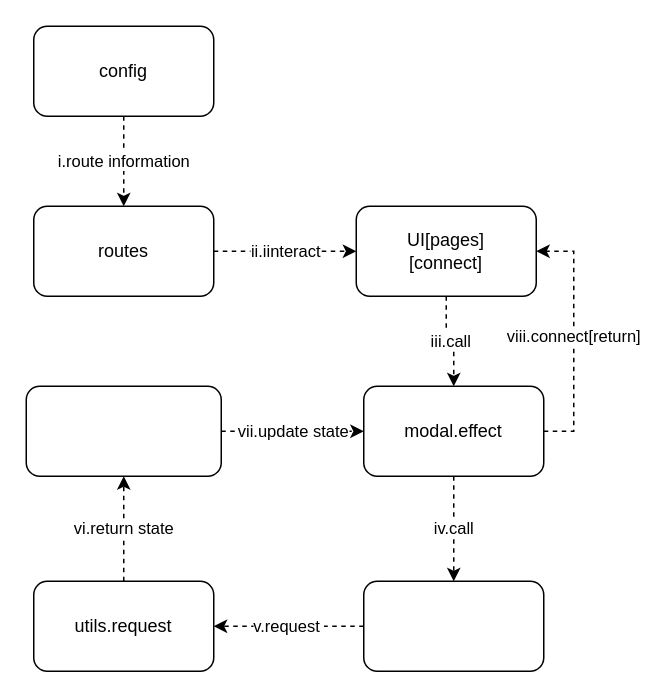
This 666x698 diagram has some shape labels left out. Here are the shapes that lost their labels. From the top down, the centre of each, then its label:
the point at 123,430: [page/modal]reducers
the point at 453,625: service
